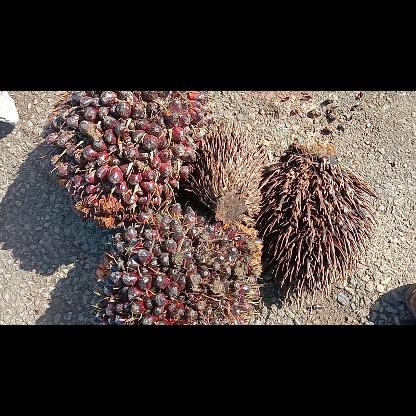Janjang kosong: (255, 143, 377, 313), (184, 118, 266, 226)
TBS mentah: (44, 90, 214, 228), (91, 202, 263, 324)
